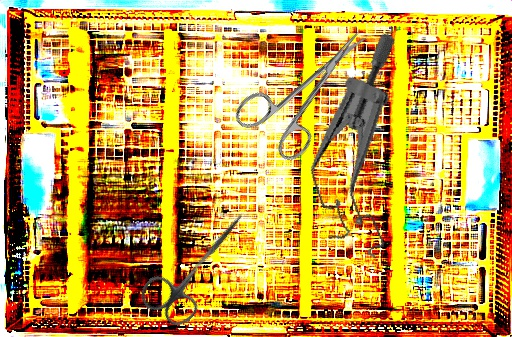Iris Scissors: (229, 7, 394, 171), (134, 193, 264, 334)
Speculum: (273, 30, 457, 272)
